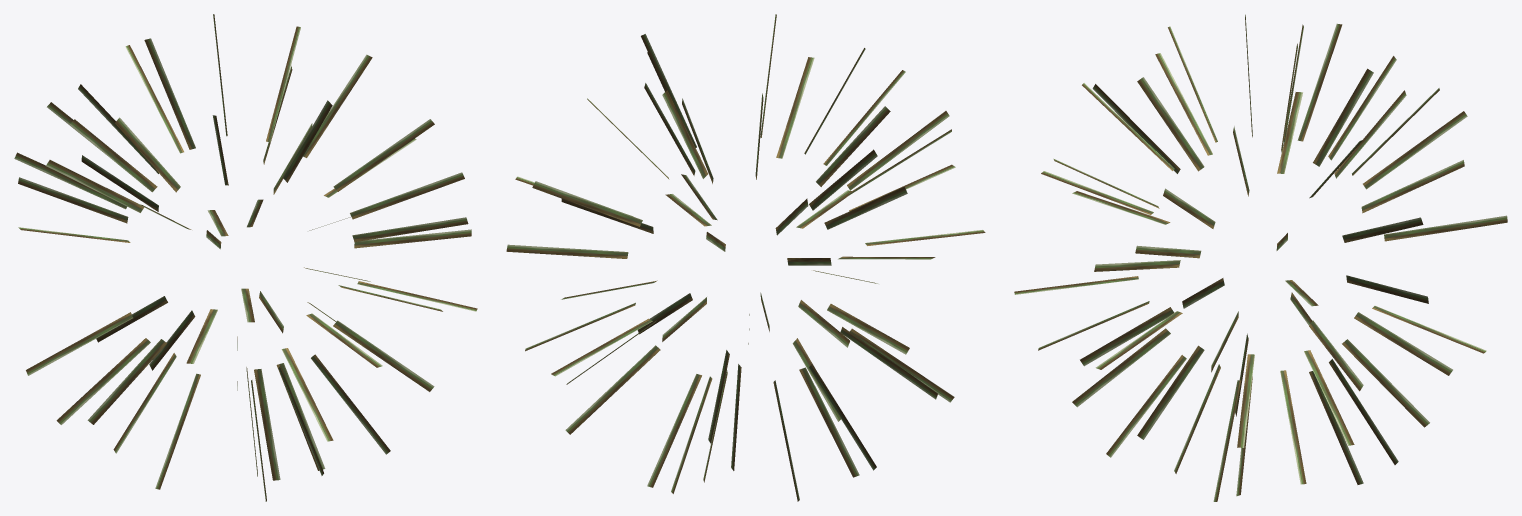
3 views of the same model, side by side, from view 1: azimuth 30°, elevation 25°; view 2: azimuth 150°, elevation 25°; view 3: azimuth 270°, elevation 25° (orthographic).
Visible parts, largest first — view 1: T1L9M003_9; view 2: T1L9M003_9; view 3: T1L9M003_9.
Boxes of the visible parts, left/top/right/bottom form: T1L9M003_9: left=14, top=14, right=477, bottom=501; T1L9M003_9: left=506, top=14, right=985, bottom=501; T1L9M003_9: left=1014, top=14, right=1507, bottom=501.
Size of the model in its own units: 3.85 by 3.83 by 3.94.
